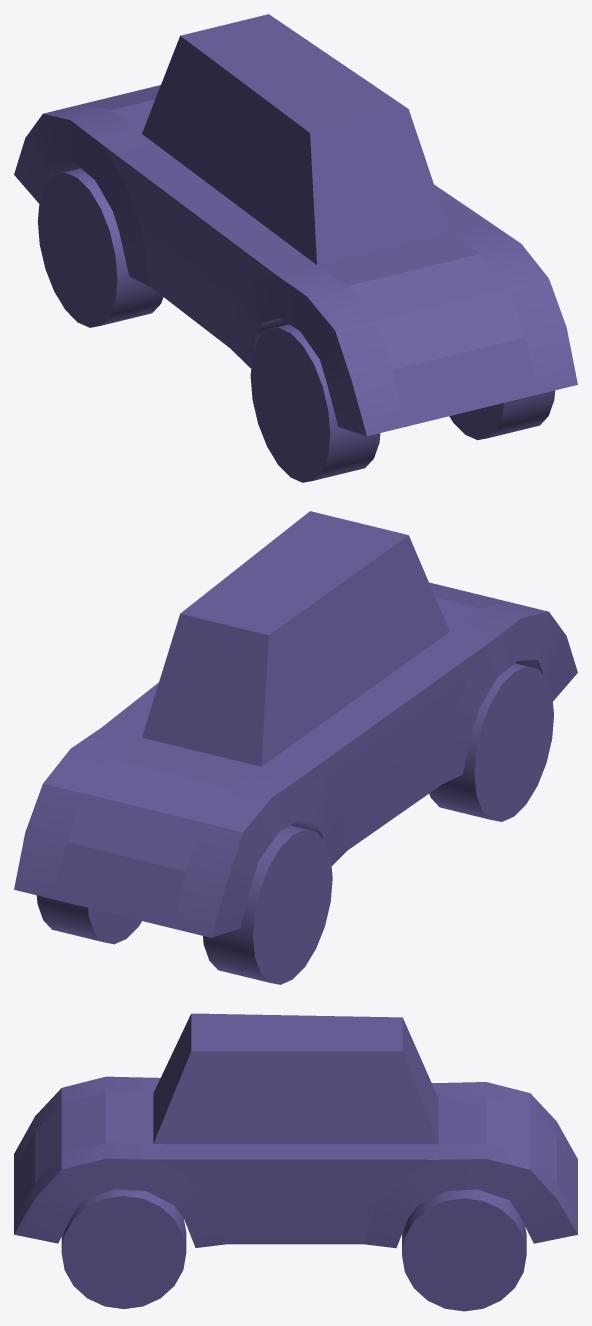
Rendered from yiyang_car.glb.
3 renders of one model, top to bottom at view 1: azimuth 30°, elevation 25°; view 2: azimuth 150°, elevation 25°; view 3: azimuth 270°, elevation 25°, orthographic. The views are drawn at different scales.
Parts seen in each view (by area): view 1: polySurface5, pCylinder5, pCylinder2, pCylinder6; view 2: polySurface5, pCylinder5, pCylinder2, pCylinder6; view 3: polySurface5, pCylinder6.
Part boxes in pixels (x1,y1,x2,y2): polySurface5: (14,14,577,436); pCylinder5: (37,168,358,482); pCylinder2: (250,324,380,482); pCylinder6: (449,390,555,440); polySurface5: (14,511,577,937); pCylinder5: (203,663,551,984); pCylinder2: (429,666,553,819); pCylinder6: (36,895,141,944); polySurface5: (14,1013,577,1248); pCylinder6: (61,1189,526,1311).
Size of the model in its own units: 16.38 by 20.95 by 45.16.
